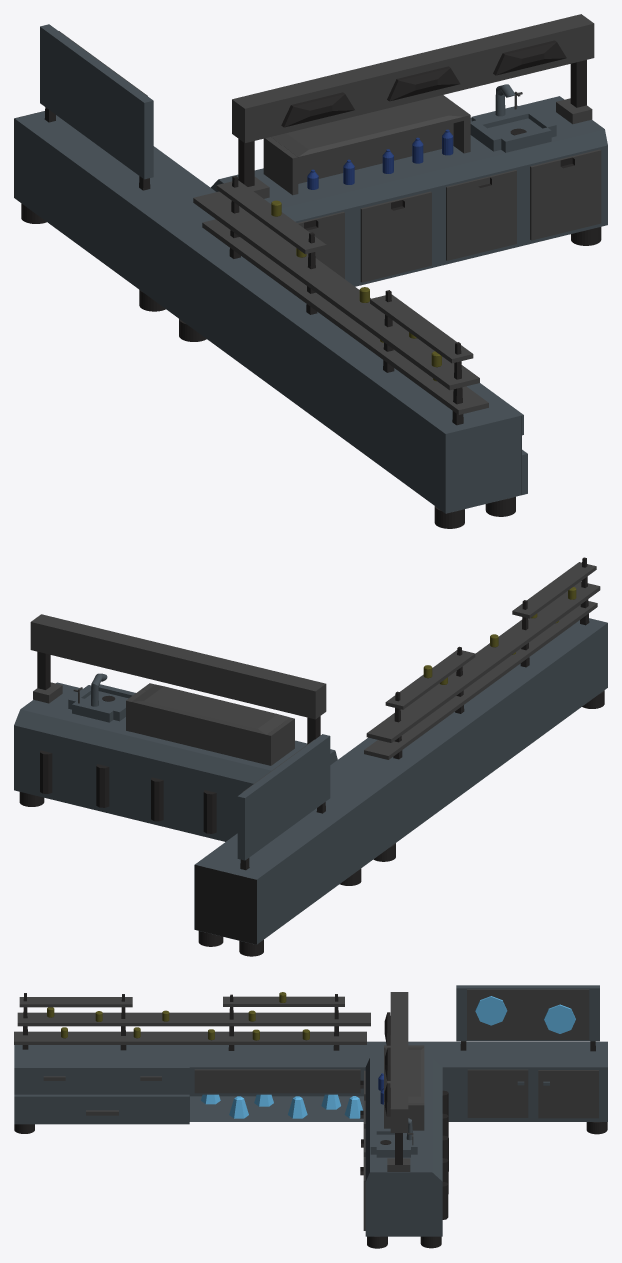
The model's file is bancadadelaboratorio.fbx.
3 views of the same model, one above another, from view 1: azimuth 30°, elevation 25°; view 2: azimuth 150°, elevation 25°; view 3: azimuth 270°, elevation 25° (orthographic). The views are drawn at different scales.
Parts seen in each view (by area): view 1: Cube, Cube.014, Cube.023, Cube.024, Suporte1.001, Cube.005, Cube.007, Cube.006, Suporte1, Suporte menor.001, Suporte menor, Cube.004 (+5 smaller); view 2: Cube, Cube.014, Cube.023, Cube.024, Suporte1.001, Cylinder.006, Suporte1, Suporte menor.001, Suporte menor, Cylinder.028, Cylinder.030, Cylinder.029 (+1 smaller); view 3: Cube, Suporte1.001, Cube.025, Suporte1, Cube.006, Cube.029, Cube.026, Cube.014, Cube.024, Cube.023, Suporte menor.001, Suporte menor (+2 smaller).
Part boxes in pixels (<box>): Cube: <box>14,84,607,513</box>; Cube.014: <box>232,14,594,142</box>; Cube.023: <box>263,95,470,195</box>; Cube.024: <box>40,24,153,179</box>; Suporte1.001: <box>193,191,479,390</box>; Cube.005: <box>360,191,431,282</box>; Cube.007: <box>530,149,601,240</box>; Cube.006: <box>446,170,516,260</box>; Suporte1: <box>202,219,488,414</box>; Suporte menor.001: <box>216,180,326,254</box>; Suporte menor: <box>370,294,473,363</box>; Cube.004: <box>297,211,344,278</box>; Cube: <box>14,618,607,944</box>; Cube.014: <box>30,614,326,719</box>; Cube.023: <box>126,683,294,765</box>; Cube.024: <box>237,734,330,860</box>; Suporte1.001: <box>366,581,600,742</box>; Cylinder.006: <box>195,865,256,944</box>; Suporte1: <box>364,601,597,759</box>; Suporte menor.001: <box>385,650,475,709</box>; Suporte menor: <box>512,562,596,618</box>; Cylinder.028: <box>203,790,216,833</box>; Cylinder.030: <box>96,764,109,807</box>; Cylinder.029: <box>151,777,163,821</box>; Cube: <box>14,1041,607,1236</box>; Suporte1.001: <box>17,1012,370,1026</box>; Cube.025: <box>467,989,589,1039</box>; Suporte1: <box>14,1031,366,1044</box>; Cube.006: <box>194,1069,365,1156</box>; Cube.029: <box>467,1069,528,1117</box>; Cube.026: <box>538,1070,598,1118</box>; Cube.014: <box>390,992,408,1132</box>; Cube.024: <box>456,985,599,1041</box>; Cube.023: <box>384,1045,424,1130</box>; Suporte menor.001: <box>223,996,344,1006</box>; Suporte menor: <box>19,997,132,1007</box>.
Size of the model in its own units: 1111 by 516 by 1961.
